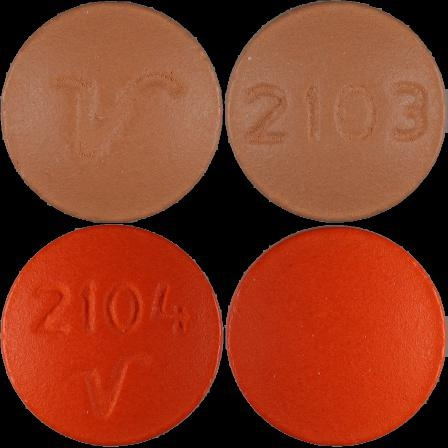33261-358: (0, 0, 224, 224)
